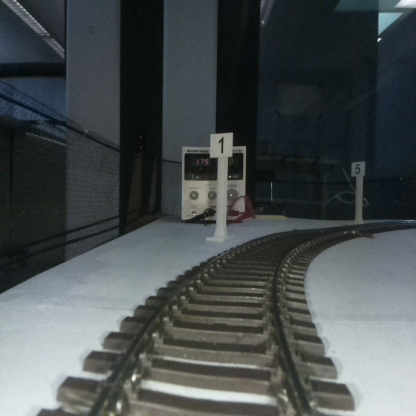white-info-1: (210, 132, 232, 241)
white-info-5: (351, 161, 364, 222)
